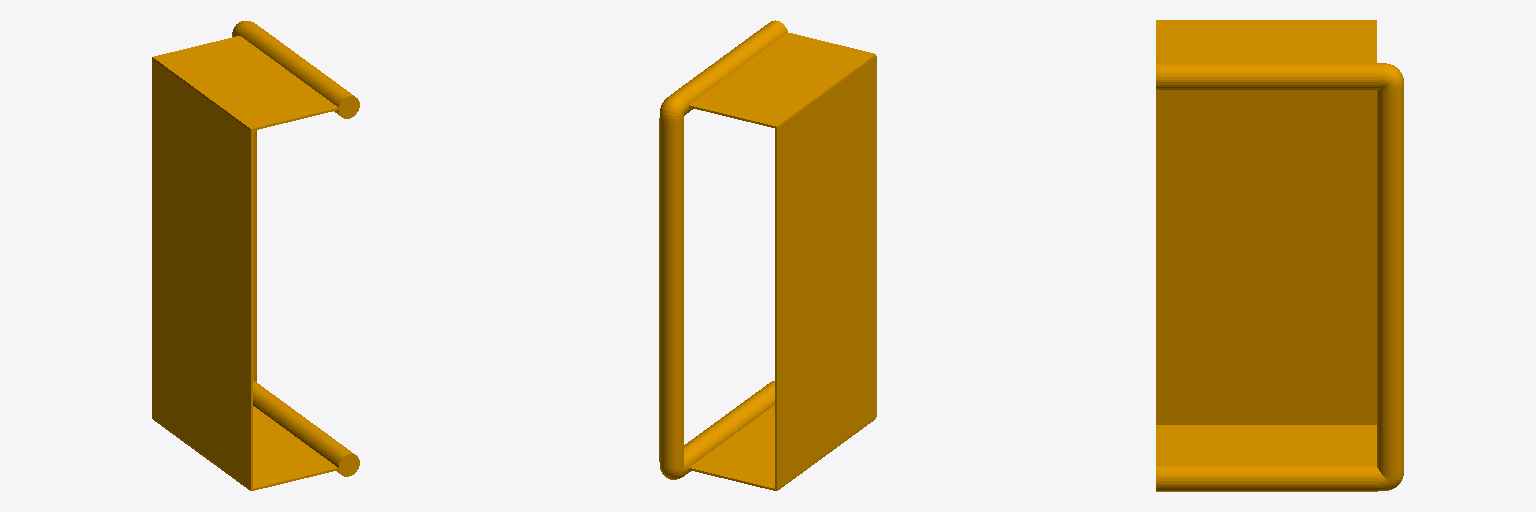
URDF robot description (spl-goalpost.urdf):
<?xml version="1.0" ?>
<robot name="spl-goalpost.urdf">
  <link concave="yes" name="baseLink">
    <visual>
      <origin rpy="0 0 0" xyz="0 0 0"/>
      <geometry>
        <mesh filename="spl-goalpost-v1.obj" scale="0.09 0.09 0.09"/>
      </geometry>
      <material name="spl-goalpost-v1">
        <texture filename="spl-goalpost-v1.mtl"/>
      </material>
    </visual>
    <collision>
      <origin rpy="0 0 0" xyz="0 0 0"/>
      <geometry>
	 	<mesh filename="spl-goalpost-v1.obj" scale="0.09 0.09 0.09"/>
      </geometry>
    </collision>
  </link>
</robot>

--- Render facts (derived) ---
The picture shows the robot from 3 angles, left to right: view 1: azimuth 30°, elevation 25°; view 2: azimuth 150°, elevation 25°; view 3: azimuth 270°, elevation 25°; orthographic projection.
Robot: spl-goalpost.urdf — 1 links, 0 joints (none); root link baseLink; default pose: all joints at 0.
Visible links, largest first — view 1: baseLink; view 2: baseLink; view 3: baseLink.
Boxes of the visible links, x1=… form: baseLink: x1=152, y1=21, x2=359, y2=490; baseLink: x1=659, y1=20, x2=876, y2=490; baseLink: x1=1156, y1=20, x2=1403, y2=491.
Bounding box of the posed robot: 0.459 × 0.81 × 1.53 m (x, y, z).
Meshes: 1 distinct files referenced, 1 mesh visuals loaded (1 OBJ).